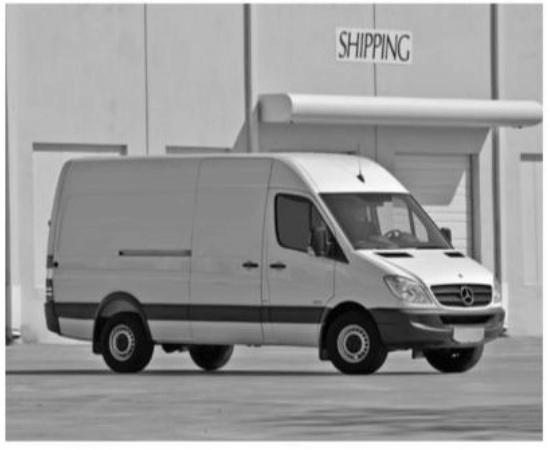car: (42, 148, 512, 375)
